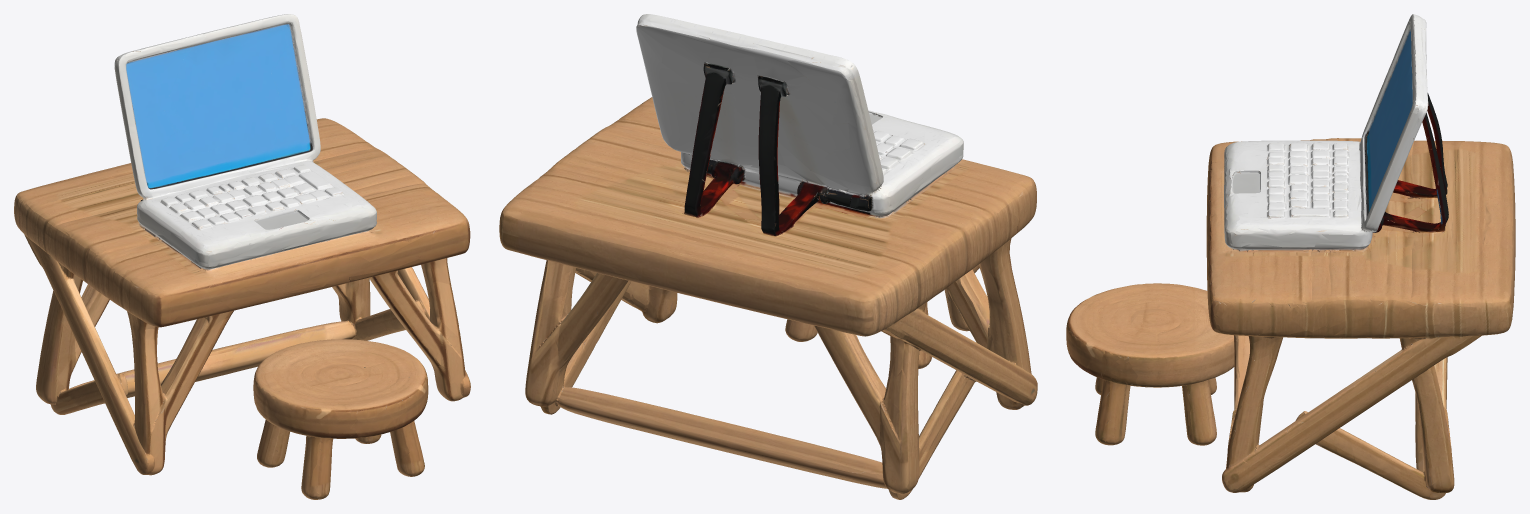
File: folding-laptop-no-decor-meshy6-web-v1.glb
The picture shows the model from 3 angles, left to right: view 1: azimuth 30°, elevation 25°; view 2: azimuth 150°, elevation 25°; view 3: azimuth 270°, elevation 25°; orthographic projection. The views are drawn at different scales.
Size of the model in its own units: 1.67 by 1.7 by 1.9.
Materials: 1 (1 with a texture image).
